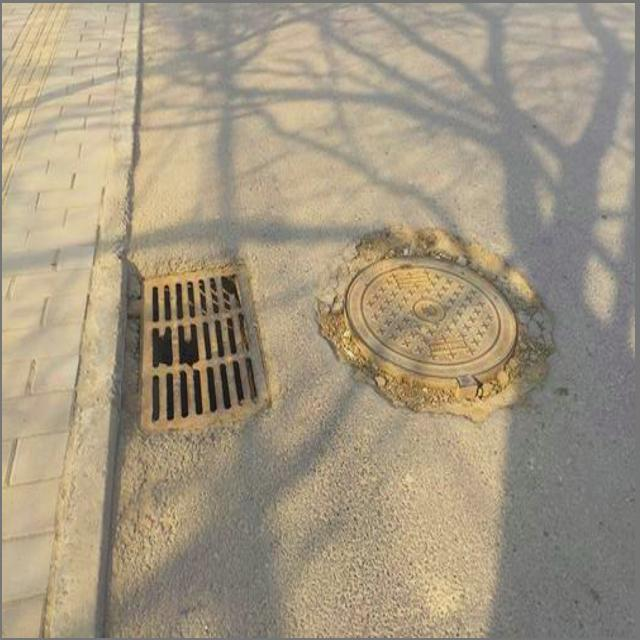circle: (309, 209, 556, 429)
